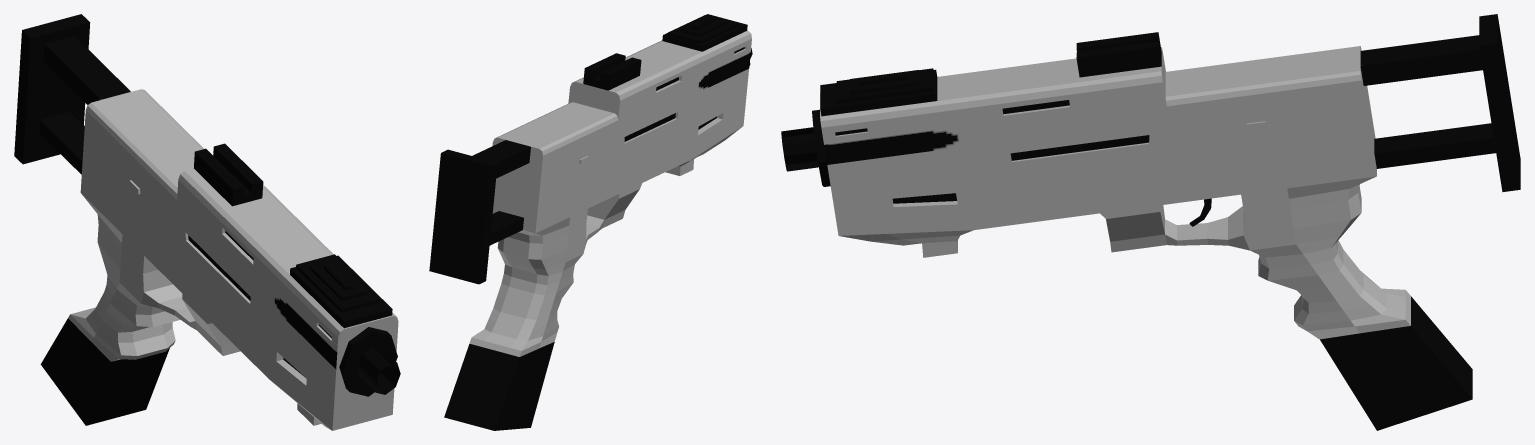
File: primary2.fbx
3 views of the same model, side by side, from view 1: azimuth 30°, elevation 25°; view 2: azimuth 150°, elevation 25°; view 3: azimuth 270°, elevation 25° (orthographic). The views are drawn at different scales.
Visible parts, largest first — view 1: Cube.005; view 2: Cube.005; view 3: Cube.005.
Boxes of the visible parts, bbox=[...] form: Cube.005: bbox=[14, 14, 400, 430]; Cube.005: bbox=[429, 14, 752, 430]; Cube.005: bbox=[781, 14, 1520, 430].
Bounding box in the file's own units: 5.26 × 26.21 × 45.69.
